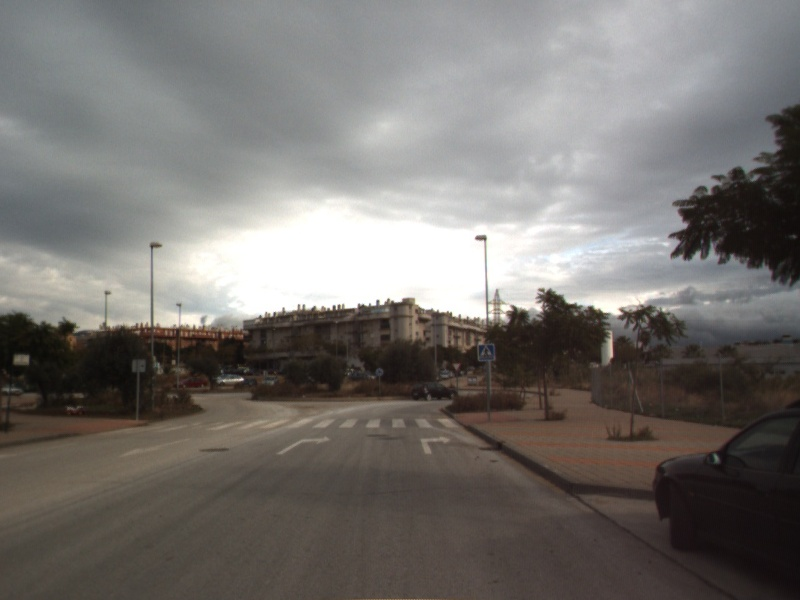RIGHT: (274, 433, 332, 456), (418, 433, 453, 456)
